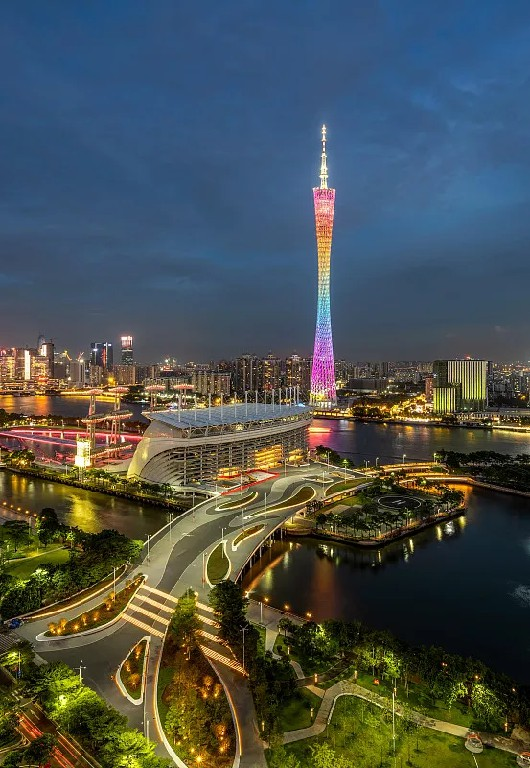Canton: (309, 125, 340, 409)
